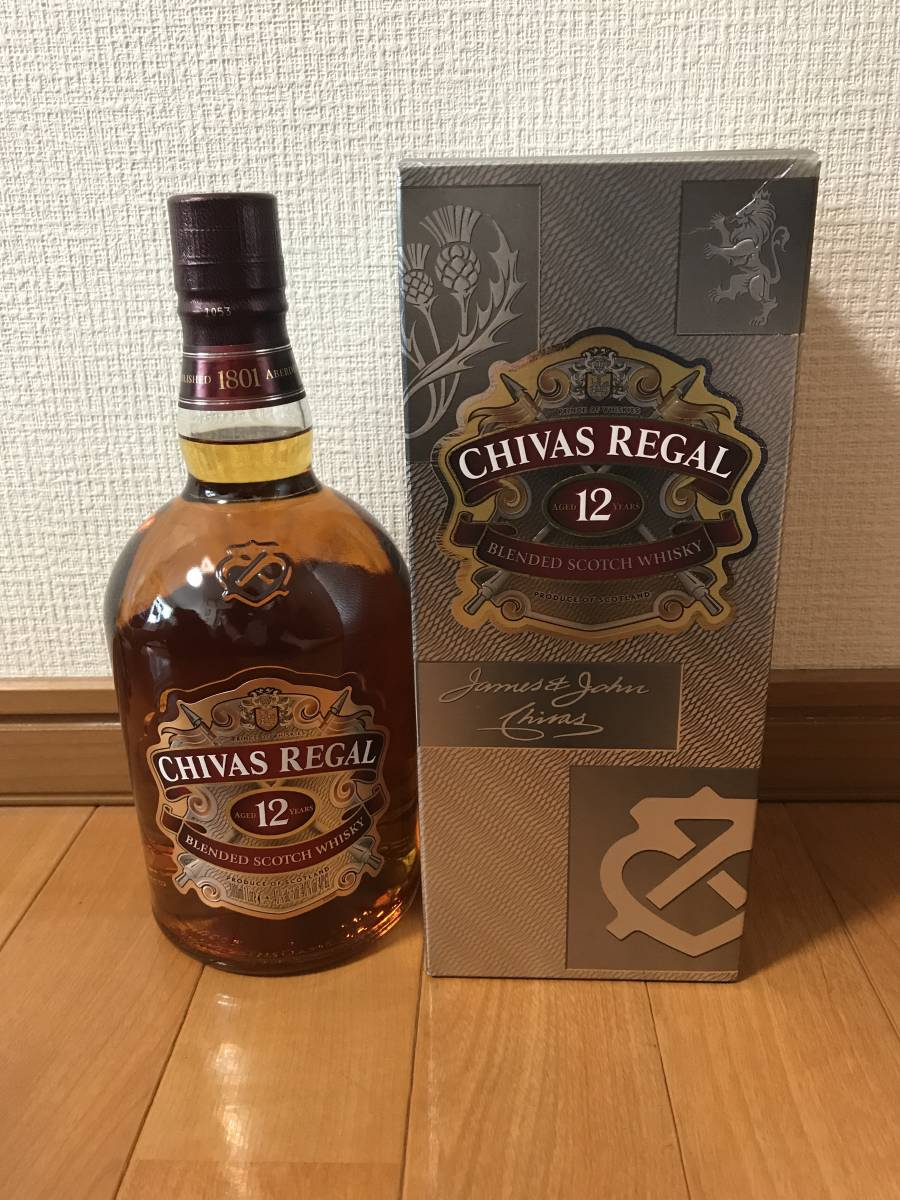Chivas Regal: (88, 178, 430, 987)
